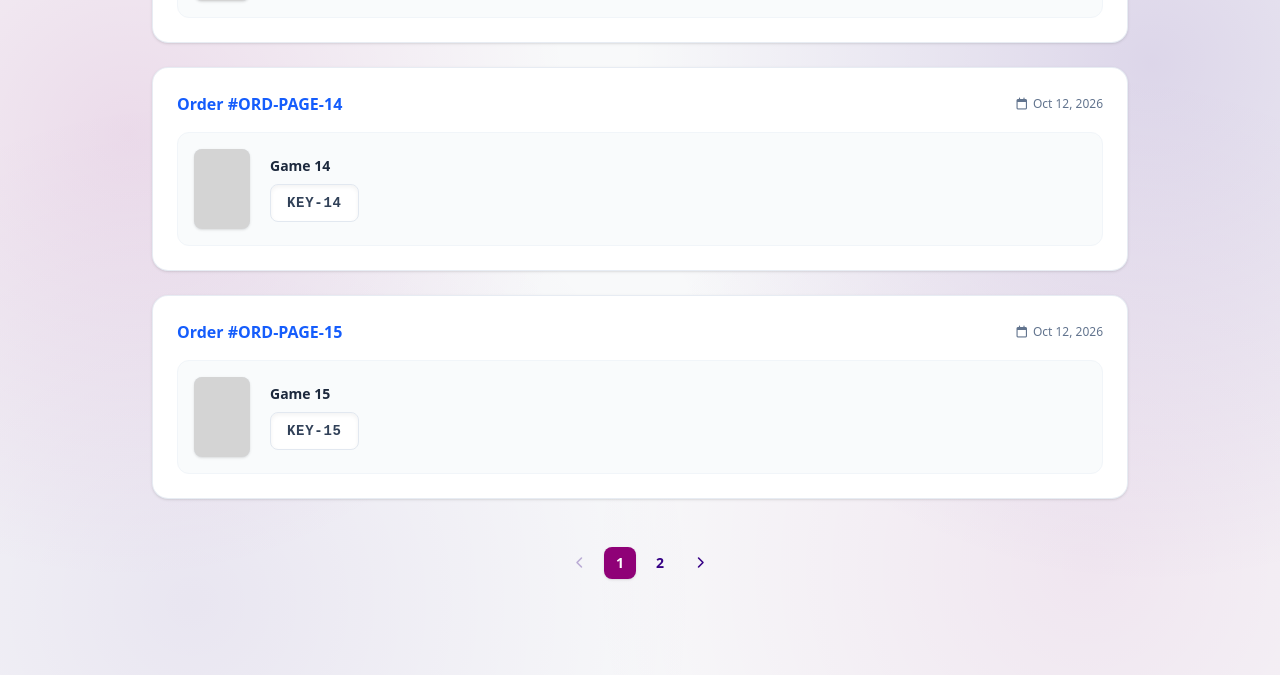
Test case: AccountView › paginates orders list at 15 items per page
The width and height of the screenshot is (1280, 675).
(page scrolled)
expect the element with test id "account-order-ORD-PAGE-15" is shown: met, box [152,295,1128,499]
expect the navigation bar with test id "account-orders-pagination" is shown: met, box [564,547,716,579]
Click the button "2" at coordinates (660, 563), box [644,547,676,579]
(page scrolled)
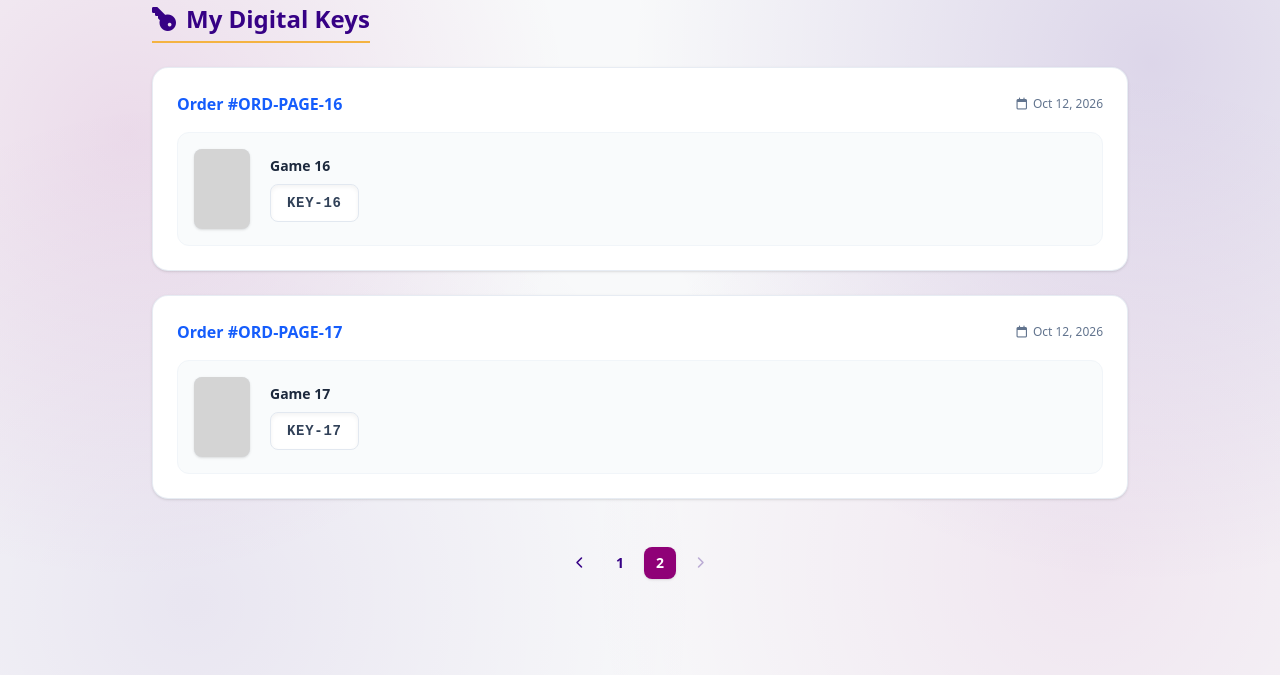
expect the element with test id "account-order-ORD-PAGE-16" is shown: met, box [152,67,1128,271]
expect the element with test id "account-order-ORD-PAGE-17" is shown: met, box [152,295,1128,499]
